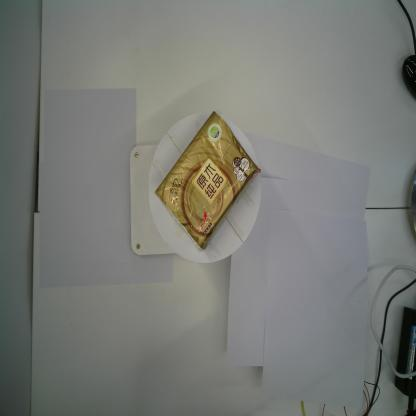Tissue: (151, 111, 262, 253)
